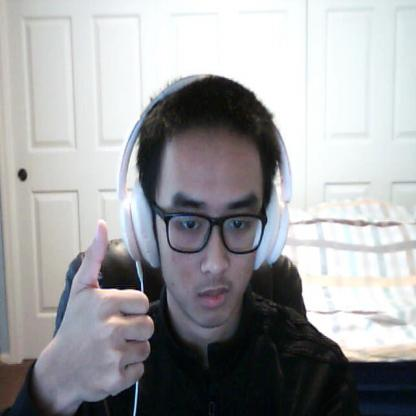Thumbs-Up: (56, 220, 155, 406)
